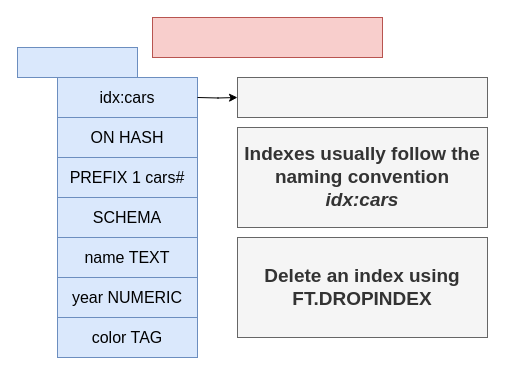
The diagram is 505 pixels wide and 375 high, and some of its shapes have lost their labels. The shapes that lost their labels are listed below. From the top down, each one's box as (x1, y1, x2, y2) in pixels, then its label:
(152, 16, 382, 58): Create an index for searching all keys starting with a particular string
(16, 46, 138, 78): FT.CREATE
(236, 76, 488, 118): Name of the index
